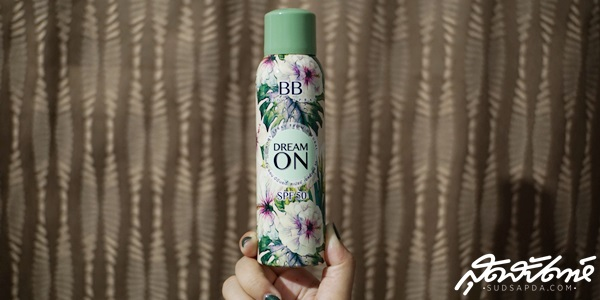Aerosol_cans: (251, 4, 331, 271)
